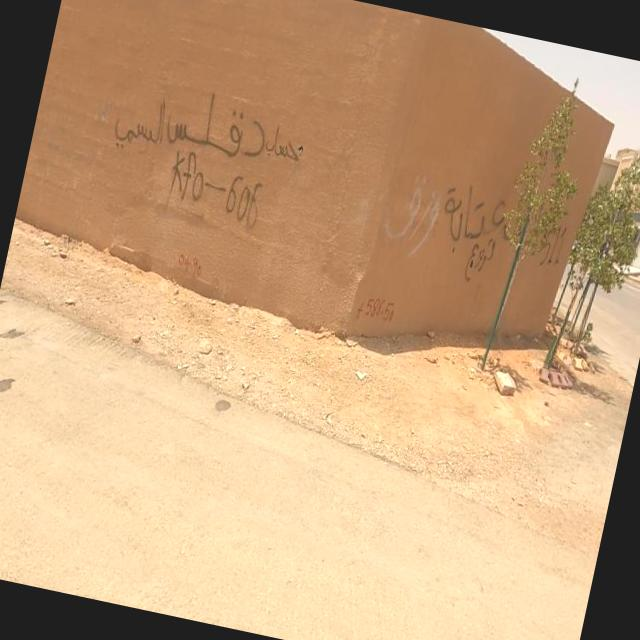debris: (6, 0, 454, 340), (332, 104, 640, 365)
